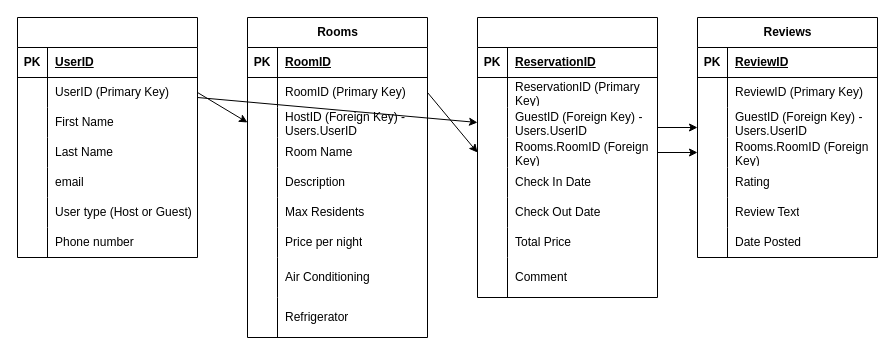
Some shapes in this 895 by 355 pixel diagram are drawn without their labels. Each missing label, with the box of its shape:
Reservations: (476, 16, 658, 298)
Users: (16, 16, 198, 258)
